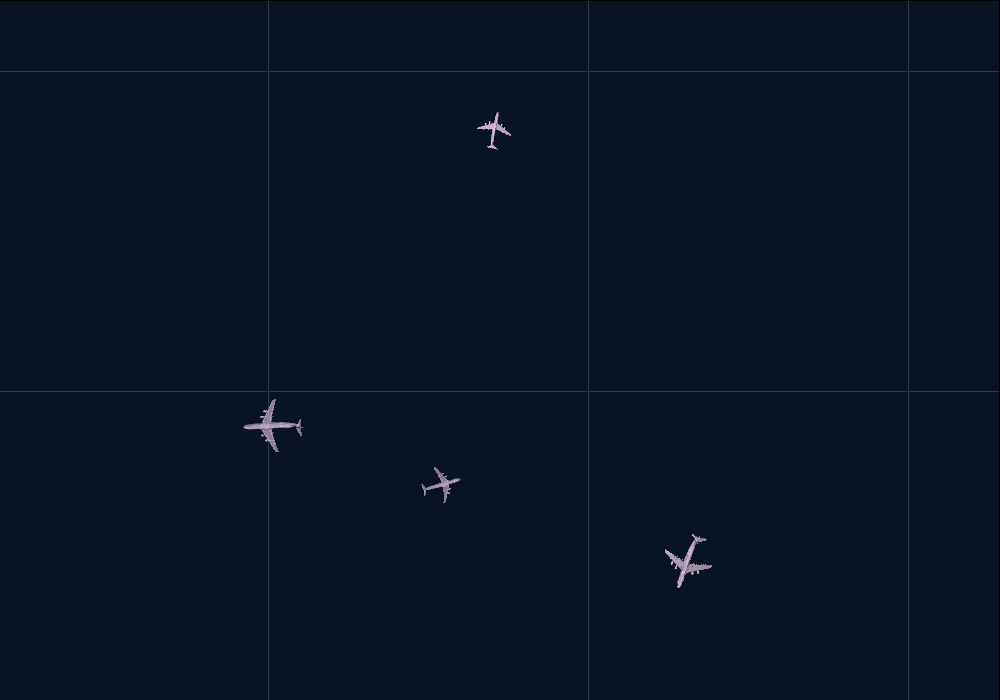plane: (653, 525, 724, 598), (241, 396, 304, 457), (416, 461, 465, 508), (473, 107, 517, 152)
